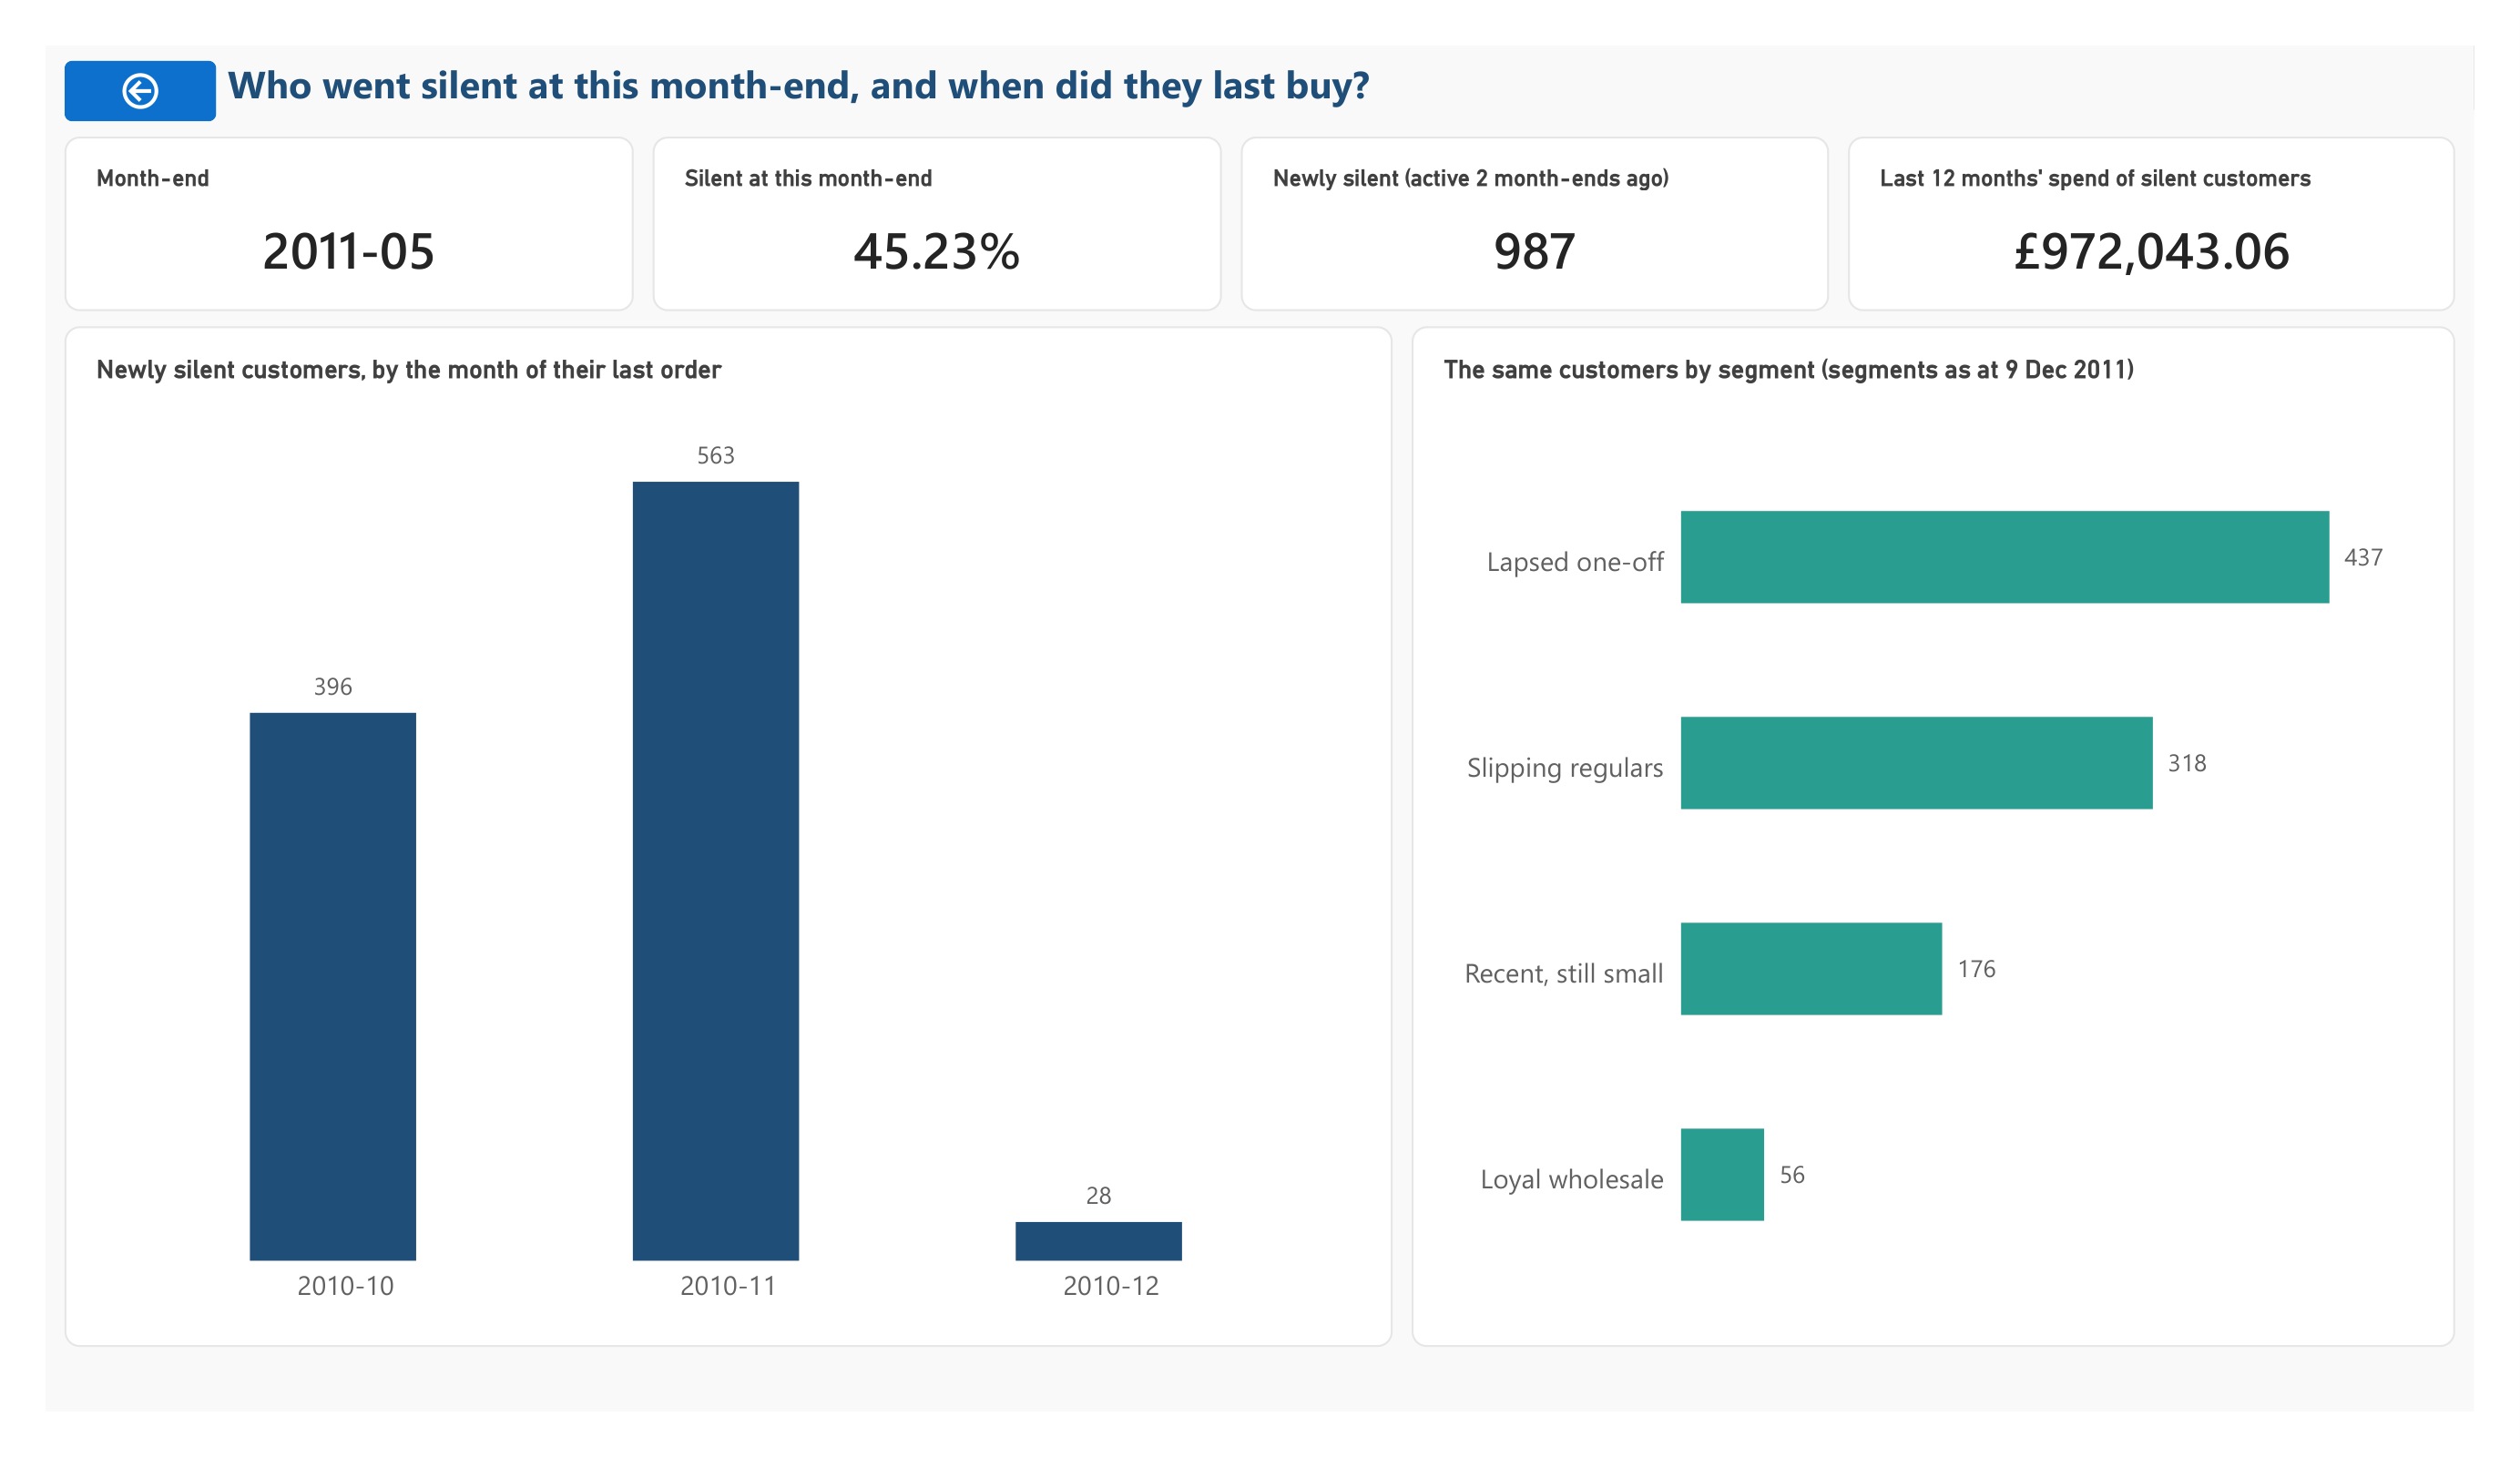

The page's visual inventory and layout, read from the dashboard file:
{"tool":"powerbi","page":{"name":"Month drill","canvas":[1280,720],"ordinal":2},"visuals":[{"type":"actionButton","box":[10,8,80,32],"z":0},{"type":"textbox","box":[96,6,1170,34],"z":1000},{"type":"card","title":"Month-end","fields":{"Values":["fact_customer_month.Selected month"]},"box":[10,48,300,92],"z":2000},{"type":"card","title":"Silent at this month-end","fields":{"Values":["fact_customer_month.Silent % (as of month)"]},"box":[320,48,300,92],"z":3000},{"type":"card","title":"Newly silent (active 2 month-ends ago)","fields":{"Values":["fact_customer_month.Silent since 2 points ago"]},"box":[630,48,310,92],"z":4000},{"type":"card","title":"Last 12 months'' spend of silent customers","fields":{"Values":["fact_customer_month.Silent value as of month"]},"box":[950,48,320,92],"z":5000},{"type":"clusteredColumnChart","title":"Newly silent customers, by the month of their last order","fields":{"Category":["fact_customer_month.last_order_month"],"Y":["fact_customer_month.Silent since 2 points ago"]},"box":[10,148,700,538],"z":6000},{"type":"clusteredBarChart","title":"The same customers by segment (segments as at 9 Dec 2011)","fields":{"Category":["dim_customer.segment"],"Y":["fact_customer_month.Silent since 2 points ago"]},"box":[720,148,550,538],"z":7000}]}

Visuals, with their boxes on the page's 1280x720 design canvas (x1, y1, x2, y2). These are canvas units, not pixel positions in the 2520x1457 screenshot, which may show the page scaled, cropped or inside an application window:
actionButton: box=[10, 8, 90, 40]
textbox: box=[96, 6, 1266, 40]
"Month-end" card: box=[10, 48, 310, 140]
"Silent at this month-end" card: box=[320, 48, 620, 140]
"Newly silent (active 2 month-ends ago)" card: box=[630, 48, 940, 140]
"Last 12 months'' spend of silent customers" card: box=[950, 48, 1270, 140]
"Newly silent customers, by the month of their last order" clusteredColumnChart: box=[10, 148, 710, 686]
"The same customers by segment (segments as at 9 Dec 2011)" clusteredBarChart: box=[720, 148, 1270, 686]
